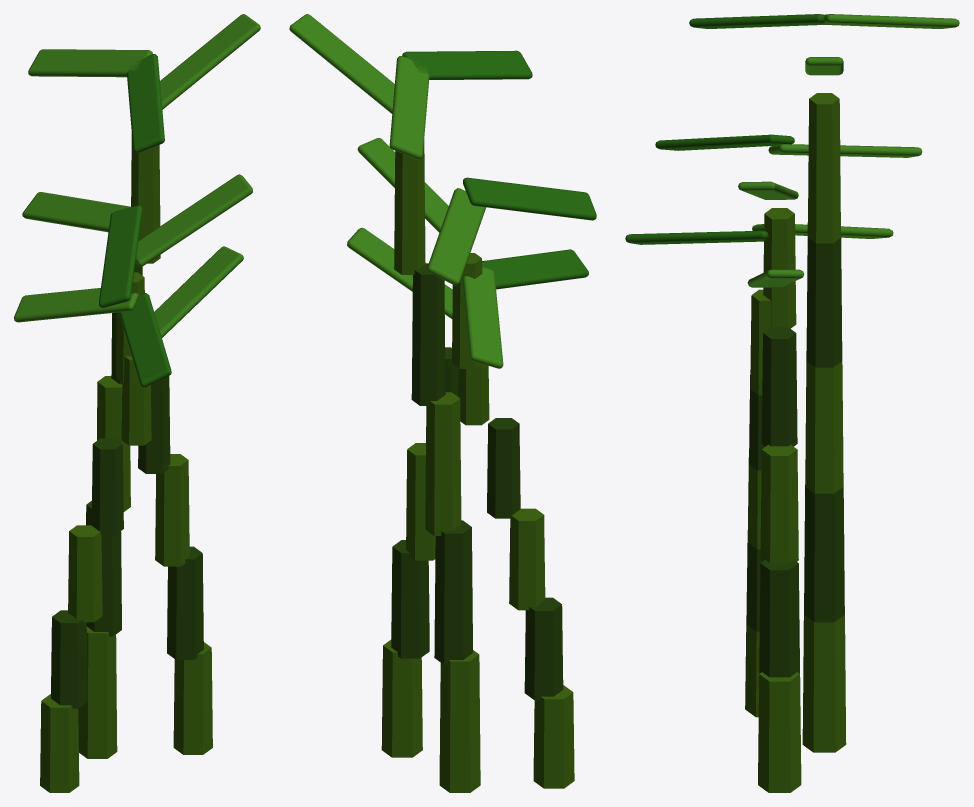
Rendered from khom_tre.glb.
The picture shows the model from 3 angles, left to right: view 1: azimuth 30°, elevation 25°; view 2: azimuth 150°, elevation 25°; view 3: azimuth 270°, elevation 25°; orthographic projection. The views are drawn at different scales.
Size of the model in its own units: 0.4689 by 1.33 by 0.5226.
